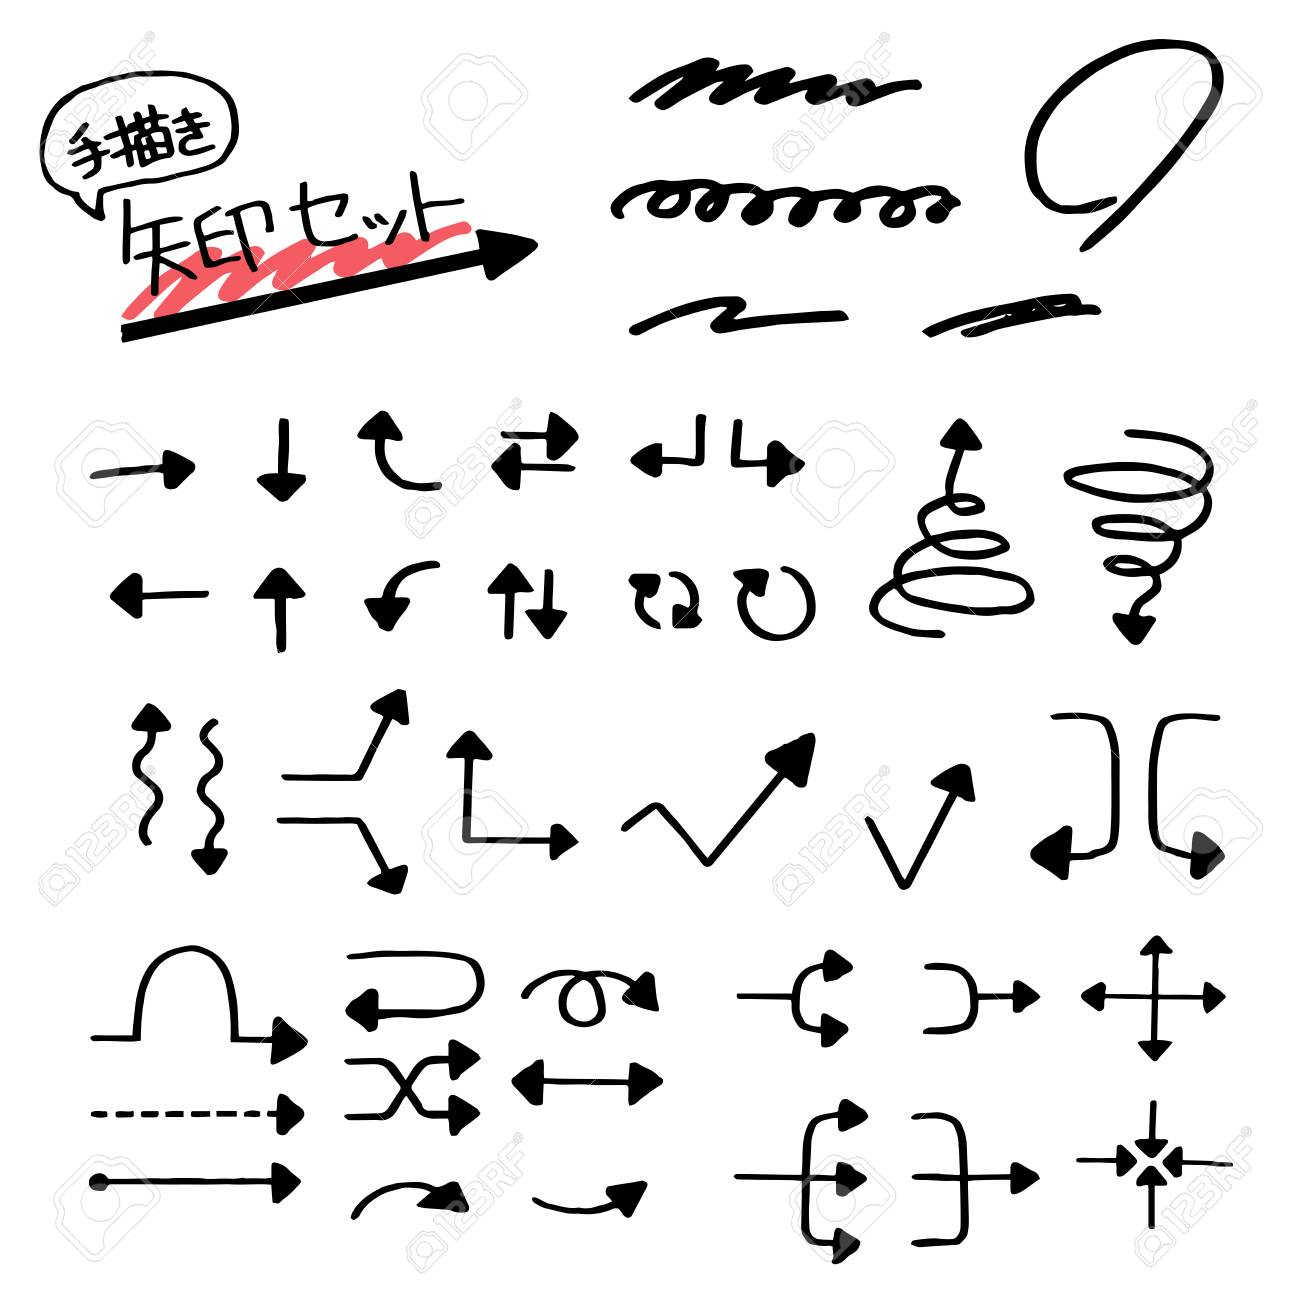arrow: (732, 729, 817, 829), (911, 762, 977, 873), (204, 1158, 308, 1210), (580, 1057, 671, 1113), (440, 725, 496, 813), (1029, 821, 1104, 885), (360, 683, 412, 770), (110, 567, 189, 623), (224, 1089, 310, 1140), (387, 1174, 476, 1221), (573, 1177, 654, 1230), (240, 1011, 312, 1069), (340, 987, 427, 1035), (252, 565, 308, 639), (505, 410, 585, 461), (349, 406, 405, 479), (123, 443, 200, 494), (1171, 823, 1229, 890), (608, 960, 669, 1021), (727, 563, 776, 638), (795, 946, 856, 1006), (504, 819, 583, 863), (254, 440, 305, 507), (365, 567, 415, 635), (937, 414, 985, 485), (973, 1155, 1044, 1201), (781, 1007, 855, 1050), (123, 696, 173, 760), (1112, 589, 1164, 649), (488, 561, 533, 627), (188, 814, 233, 877), (981, 979, 1046, 1021), (632, 438, 690, 483), (810, 1095, 873, 1137), (667, 575, 712, 631), (1132, 933, 1177, 989), (363, 846, 411, 899), (1161, 1143, 1220, 1183), (812, 1223, 863, 1269), (817, 1161, 871, 1202), (1076, 979, 1136, 1017), (1133, 1017, 1177, 1067), (1171, 977, 1229, 1015), (1087, 1143, 1139, 1181)
